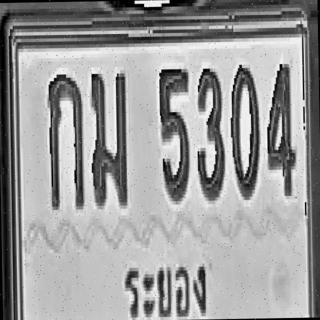A01: (44, 76, 86, 216)
A33: (86, 75, 133, 213)
N00: (226, 52, 263, 208)
N03: (191, 54, 226, 206)
N04: (263, 56, 300, 221)
N05: (151, 48, 194, 209)
P53: (114, 236, 243, 320)
